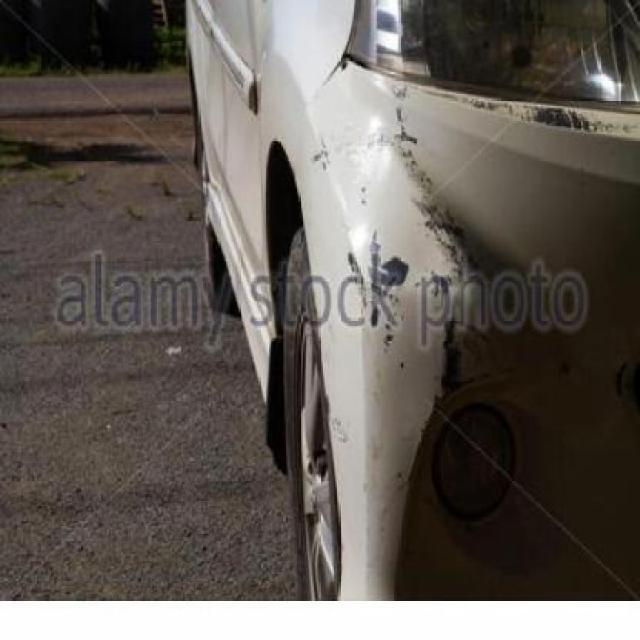front-bumper-dent: (274, 57, 638, 577)
